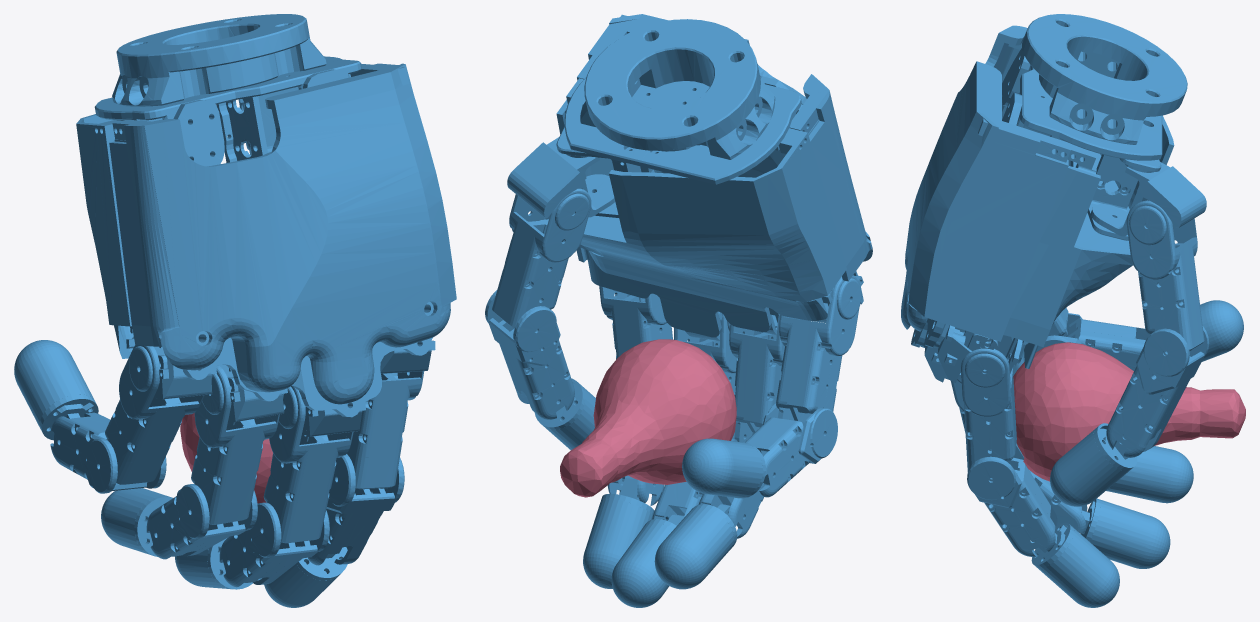
3 renders of one model, left to right at view 1: azimuth 30°, elevation 25°; view 2: azimuth 150°, elevation 25°; view 3: azimuth 270°, elevation 25°, orthographic. The views are drawn at different scales.
Visible parts, largest first — view 1: 0; view 2: 0; view 3: 0.
Part boxes in pixels (left/top/right/bottom): 0: left=14, top=14, right=456, bottom=607; 0: left=485, top=14, right=872, bottom=607; 0: left=901, top=14, right=1245, bottom=607.
Size of the model in its own units: 0.1143 by 0.2201 by 0.1271.
